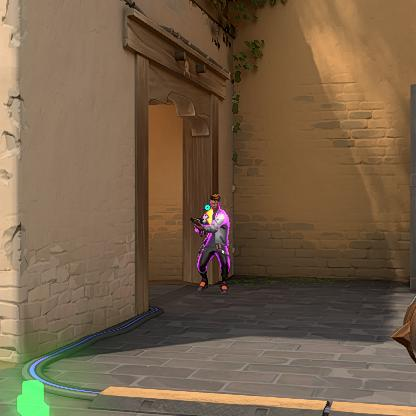enemyBody: (206, 213, 223, 242)
enemyHead: (210, 198, 218, 211)
